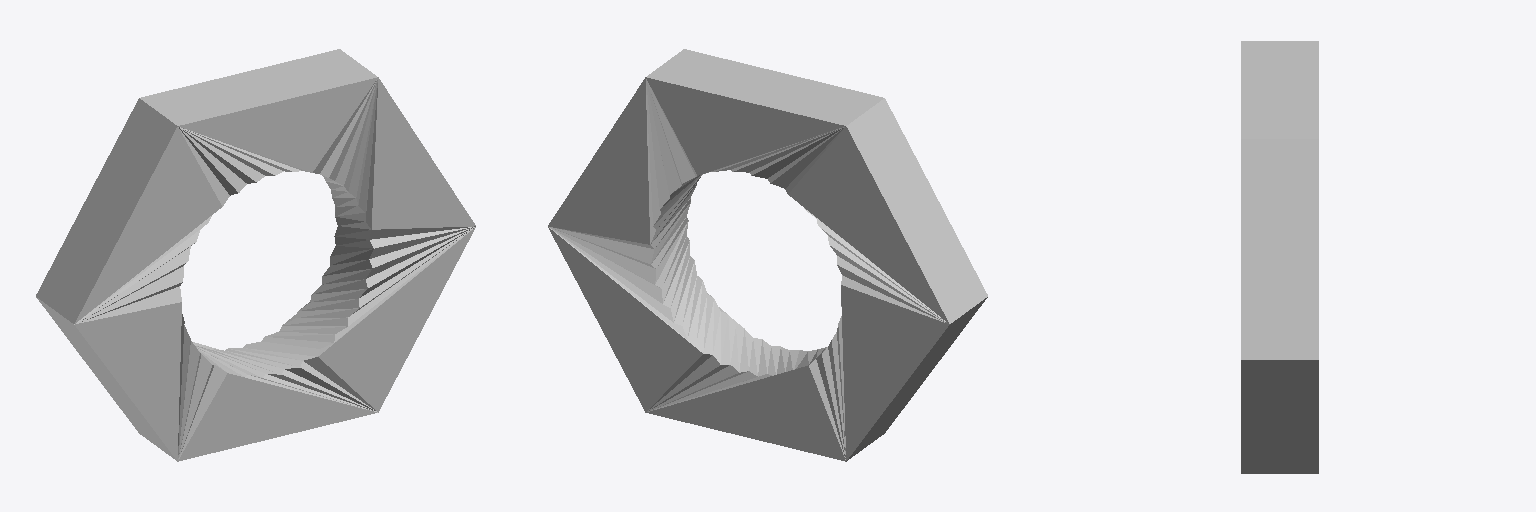
File: NUT.obj
3 renders of one model, left to right at view 1: azimuth 30°, elevation 25°; view 2: azimuth 150°, elevation 25°; view 3: azimuth 270°, elevation 25°, orthographic.
Bounding box in the file's own units: 12.02 × 9.58 × 2.